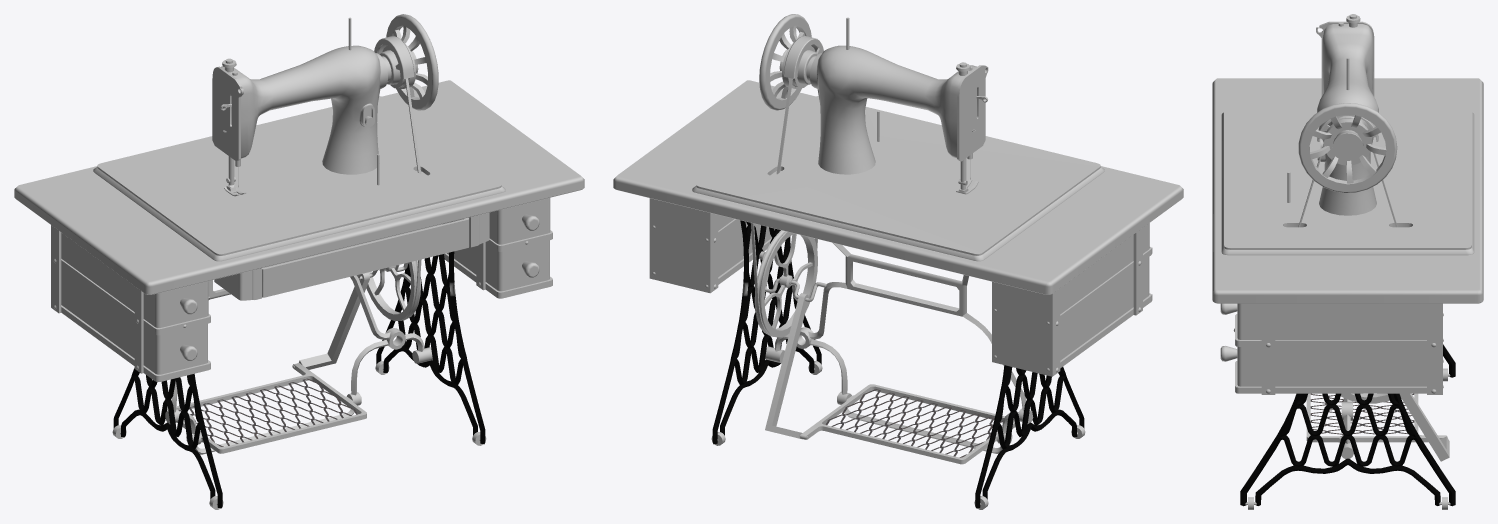
The model's file is M_Sewing_Machine_01.FBX.
3 renders of one model, left to right at view 1: azimuth 30°, elevation 25°; view 2: azimuth 150°, elevation 25°; view 3: azimuth 270°, elevation 25°, orthographic.
Visible parts, largest first — view 1: M_Sewing_Machine_01; view 2: M_Sewing_Machine_01; view 3: M_Sewing_Machine_01.
Part boxes in pixels (bbox=[...]): M_Sewing_Machine_01: bbox=[14, 14, 584, 509]; M_Sewing_Machine_01: bbox=[613, 14, 1183, 509]; M_Sewing_Machine_01: bbox=[1212, 14, 1483, 509].
Size of the model in its own units: 150 by 80 by 134.
